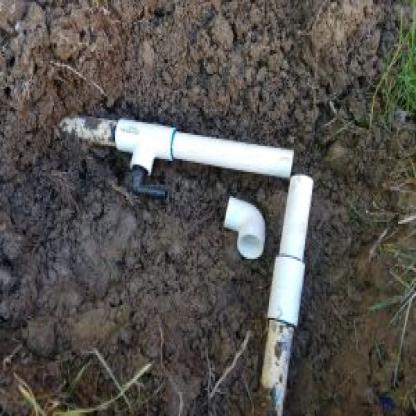PVC: (60, 110, 295, 178), (261, 173, 314, 414), (223, 197, 264, 260)
